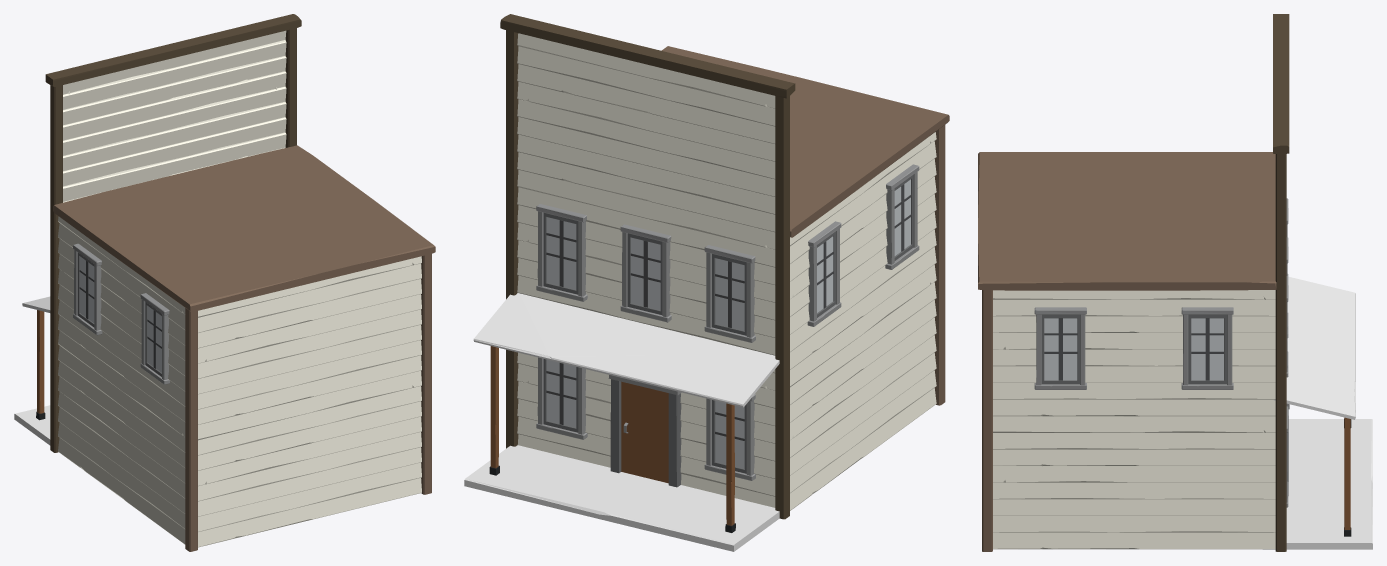
Rendered from BG_WoodHouse01.fbx.
The picture shows the model from 3 angles, left to right: view 1: azimuth 30°, elevation 25°; view 2: azimuth 150°, elevation 25°; view 3: azimuth 270°, elevation 25°; orthographic projection. The views are drawn at different scales.
Parts seen in each view (by area): view 1: BG_WoodHouse01; view 2: BG_WoodHouse01; view 3: BG_WoodHouse01.
Boxes of the visible parts, x1,y1,x2,y2 form: BG_WoodHouse01: (14,14,435,551); BG_WoodHouse01: (464,14,949,551); BG_WoodHouse01: (978,14,1372,551).
Size of the model in its own units: 334 by 485 by 423.
Materials: 3 (1 with a texture image).
